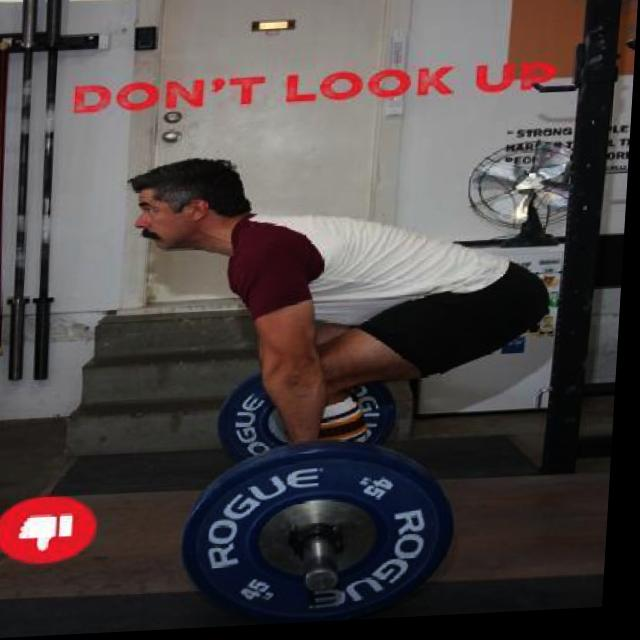barbell: (183, 447, 469, 629)
